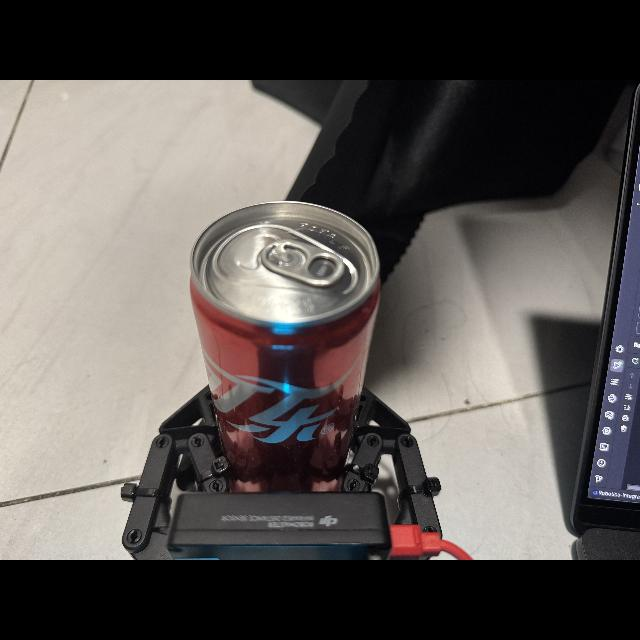Cola: (179, 190, 399, 490)
